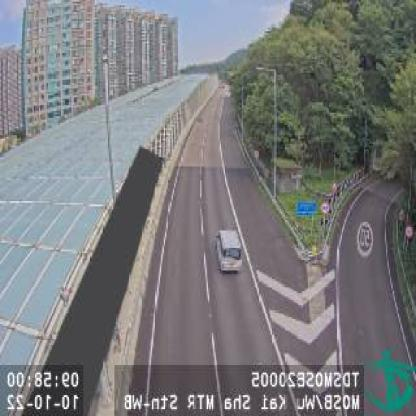Car: (214, 228, 242, 274)
